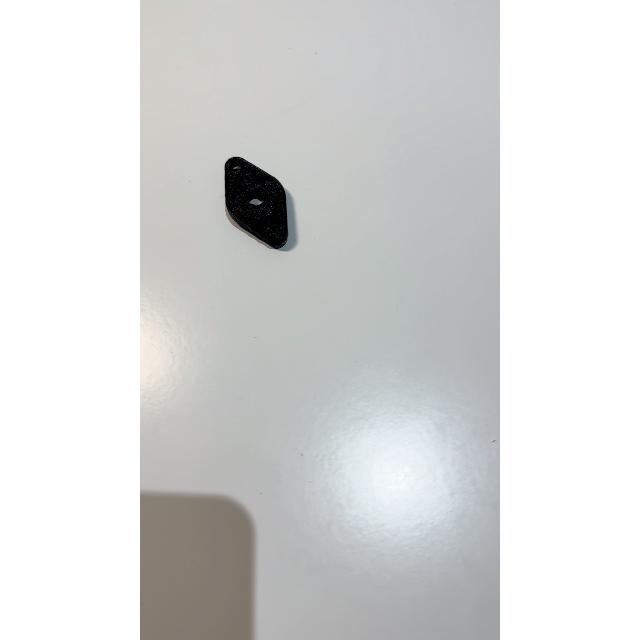Pieza_2: (212, 142, 296, 266)
